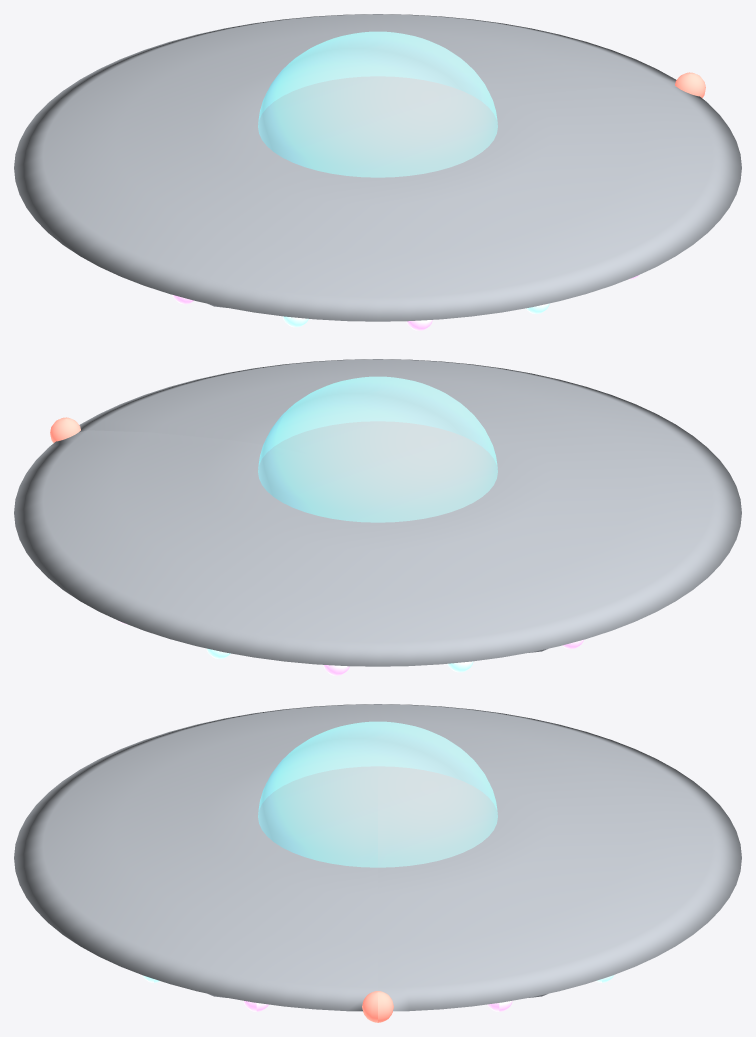
Rendered from saucer.glb.
3 views of the same model, one above another, from view 1: azimuth 30°, elevation 25°; view 2: azimuth 150°, elevation 25°; view 3: azimuth 270°, elevation 25° (orthographic).
Visible parts, largest first — view 1: hull, dome, nose_light; view 2: hull, dome, nose_light; view 3: hull, dome, nose_light.
Boxes of the visible parts, x1=… form: hull: x1=14, y1=14, x2=741, y2=321; dome: x1=258, y1=31, x2=497, y2=177; nose_light: x1=675, y1=72, x2=705, y2=97; hull: x1=14, y1=359, x2=741, y2=666; dome: x1=258, y1=376, x2=497, y2=522; nose_light: x1=50, y1=417, x2=80, y2=442; hull: x1=14, y1=704, x2=741, y2=1011; dome: x1=258, y1=721, x2=497, y2=867; nose_light: x1=362, y1=991, x2=393, y2=1022.
Size of the model in its own units: 10.17 by 3.25 by 10.
